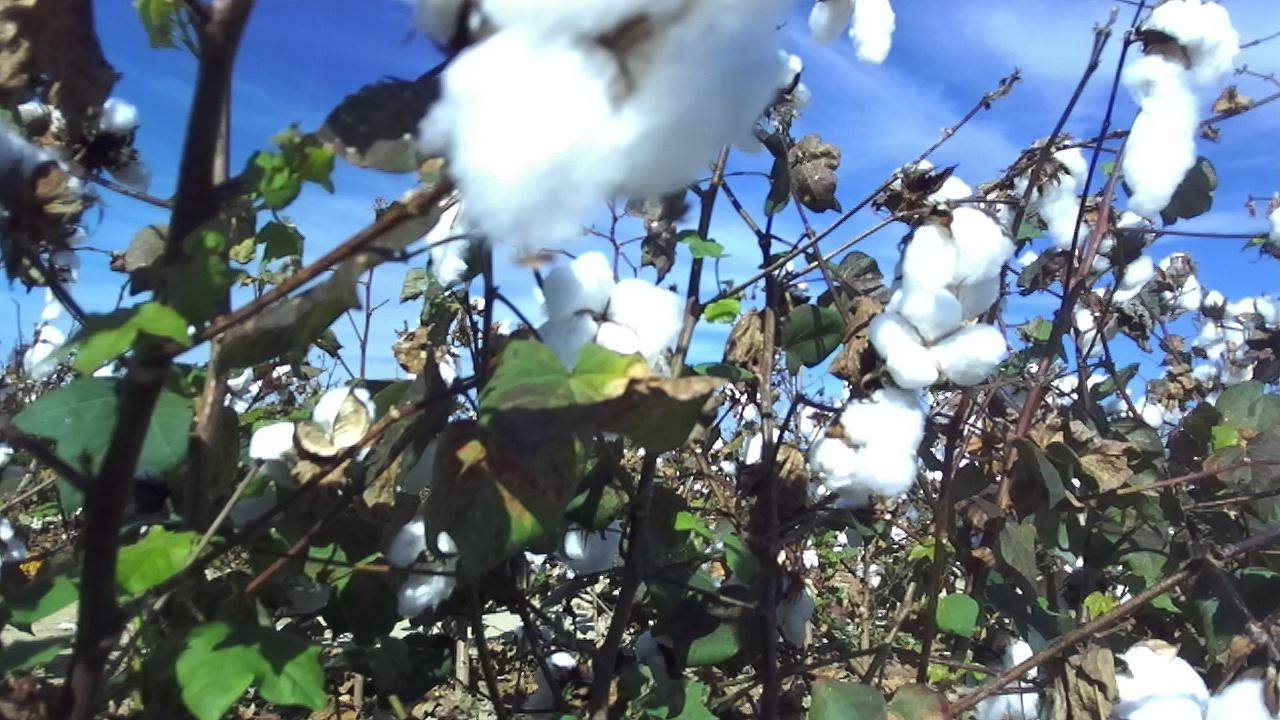cotton_ready: (419, 0, 782, 255), (1120, 0, 1240, 210), (537, 252, 684, 365), (869, 289, 1006, 392), (810, 386, 925, 502), (901, 207, 1017, 315), (1117, 644, 1280, 720), (23, 95, 152, 190), (249, 384, 379, 461), (1019, 143, 1092, 250), (402, 189, 477, 287), (392, 518, 462, 610), (0, 125, 89, 192), (969, 637, 1036, 720), (809, 0, 899, 60), (888, 157, 973, 211), (564, 518, 626, 574), (777, 586, 817, 649)
